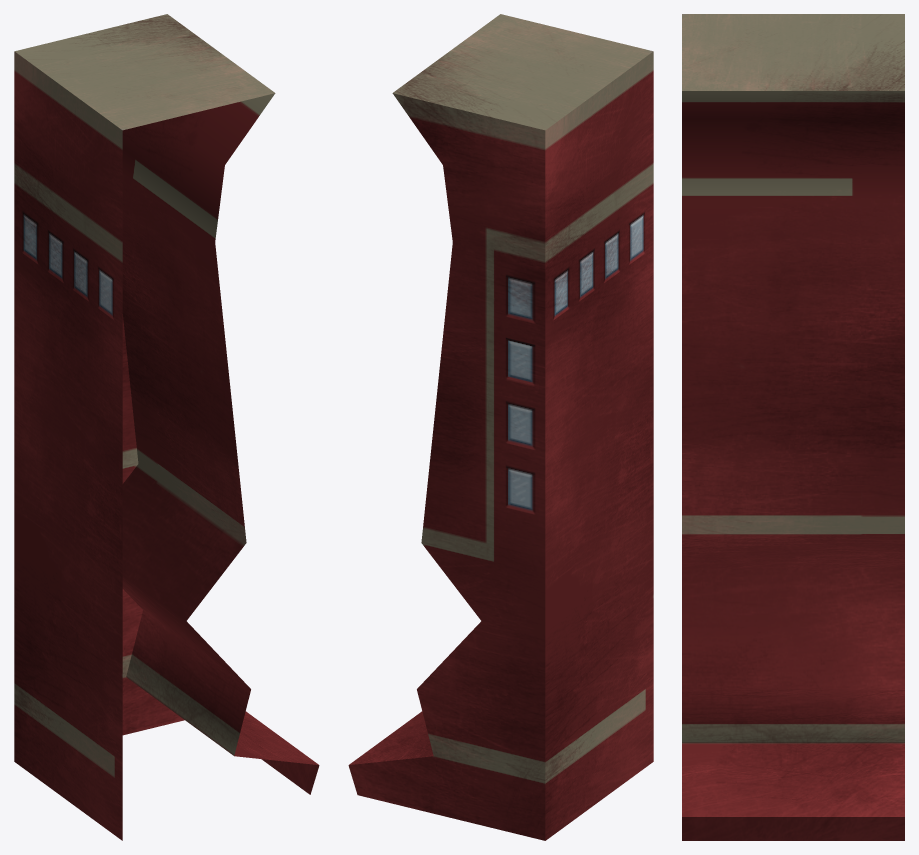
The model's file is BSolid_3A.fbx.
3 views of the same model, side by side, from view 1: azimuth 30°, elevation 25°; view 2: azimuth 150°, elevation 25°; view 3: azimuth 270°, elevation 25° (orthographic). The views are drawn at different scales.
Parts seen in each view (by area): view 1: BSolid_3A1; view 2: BSolid_3A1; view 3: BSolid_3A1.
Boxes of the visible parts, x1,y1,x2,y2 form: BSolid_3A1: (14, 14, 319, 840); BSolid_3A1: (348, 14, 653, 840); BSolid_3A1: (682, 14, 904, 840).
Size of the model in its own units: 34.74 by 120 by 33.03.
